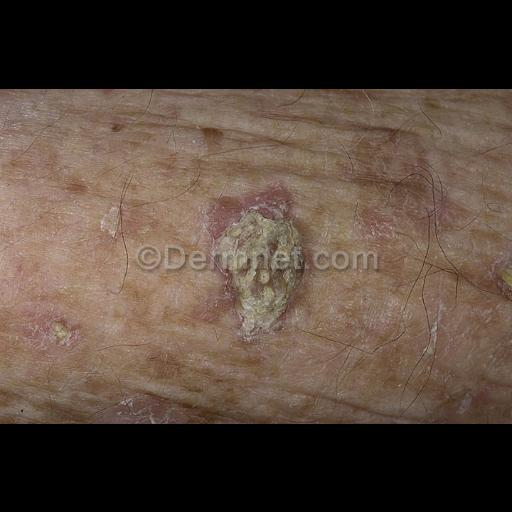Skin_Lesion: (198, 220, 318, 350), (208, 178, 298, 218), (27, 304, 85, 358), (355, 191, 397, 243), (468, 212, 502, 248), (54, 176, 88, 200), (0, 221, 18, 255), (14, 256, 32, 280), (109, 117, 125, 135)
